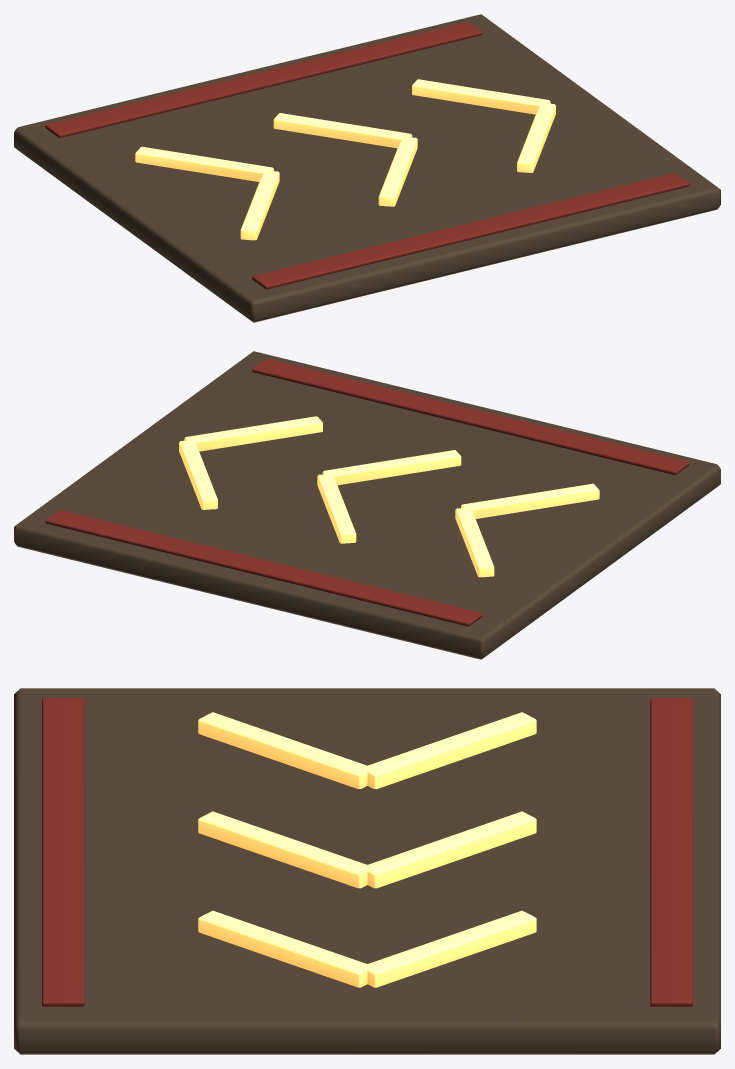
File: speedway_county_boost_pad.glb
3 renders of one model, top to bottom at view 1: azimuth 30°, elevation 25°; view 2: azimuth 150°, elevation 25°; view 3: azimuth 270°, elevation 25°, orthographic. The views are drawn at different scales.
Parts seen in each view (by area): view 1: Grippy boost pad; view 2: Grippy boost pad; view 3: Grippy boost pad.
Part boxes in pixels (<box>): Grippy boost pad: <box>14,14,720,322</box>; Grippy boost pad: <box>14,351,720,659</box>; Grippy boost pad: <box>14,688,720,1054</box>.
Size of the model in its own units: 3 by 0.2005 by 2.65.
